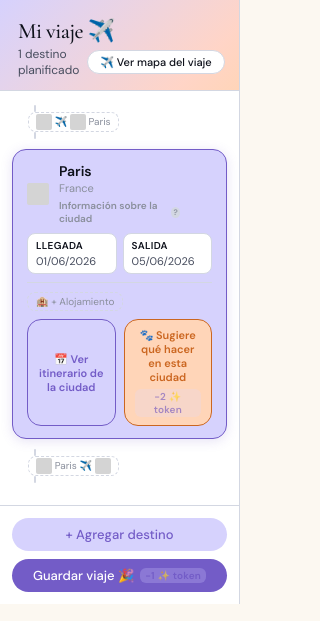
Test: StopListComponent — city info badge (visa/currency/plug) › flags adapter needed when the logged-in user's country uses no shared plug type with the destination
Hover over the element with class "city-info-trigger" at [120, 212], box [59, 199, 180, 225]
Wait 150 ms
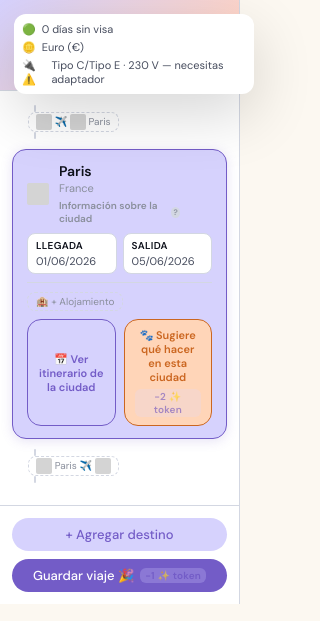
Expected: the tooltip with class "city-info-popover" shows "adaptador", [51, 58, 224, 86]
